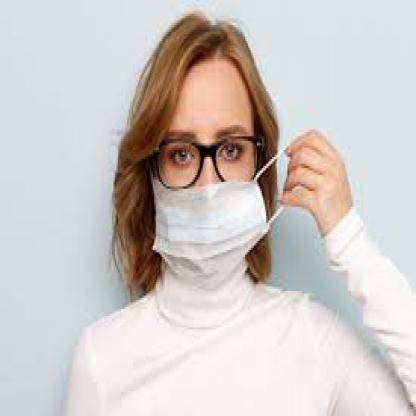glasses: (136, 132, 270, 190)
